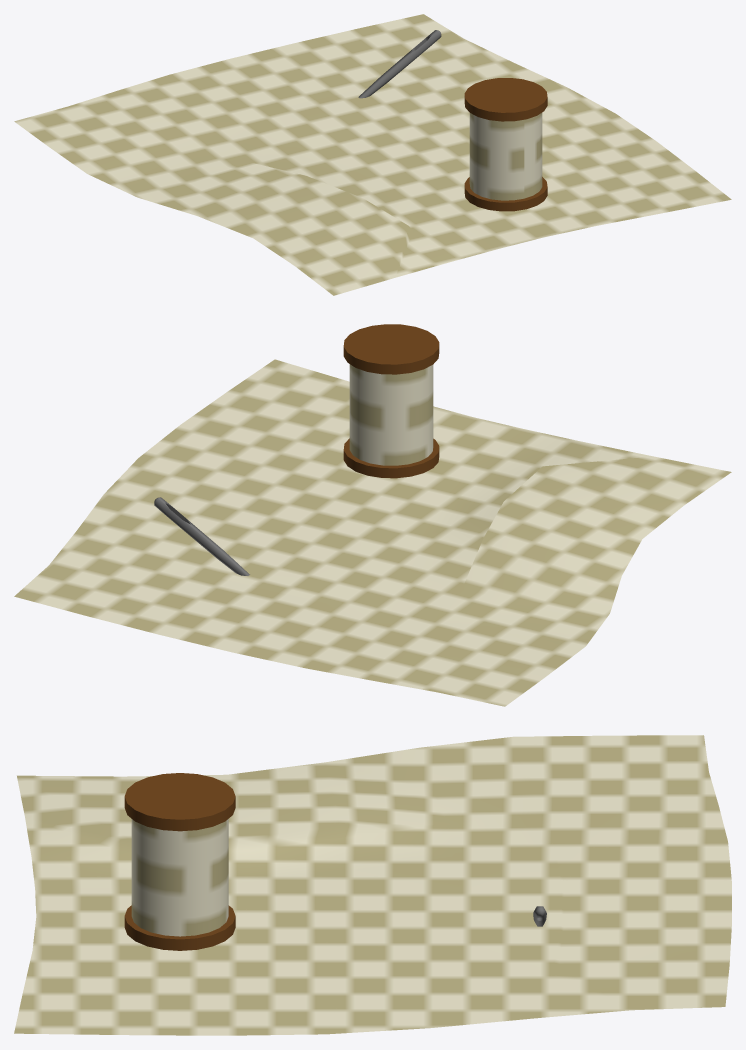
File: Needle_AnimationTextured.fbx
The picture shows the model from 3 angles, top to bottom: view 1: azimuth 30°, elevation 25°; view 2: azimuth 150°, elevation 25°; view 3: azimuth 270°, elevation 25°; orthographic projection. The views are drawn at different scales.
Visible parts, largest first — view 1: polySurface2, polySurface1; view 2: polySurface2, polySurface1; view 3: polySurface2.
Boxes of the visible parts, <box> form: polySurface2: <box>14,14,731,295</box>; polySurface1: <box>358,30,441,98</box>; polySurface2: <box>14,324,731,706</box>; polySurface1: <box>154,497,249,575</box>; polySurface2: <box>14,735,731,1035</box>.
Bounding box in the file's own units: 20.77 × 5.66 × 21.
Materials: 2 (1 with a texture image).
